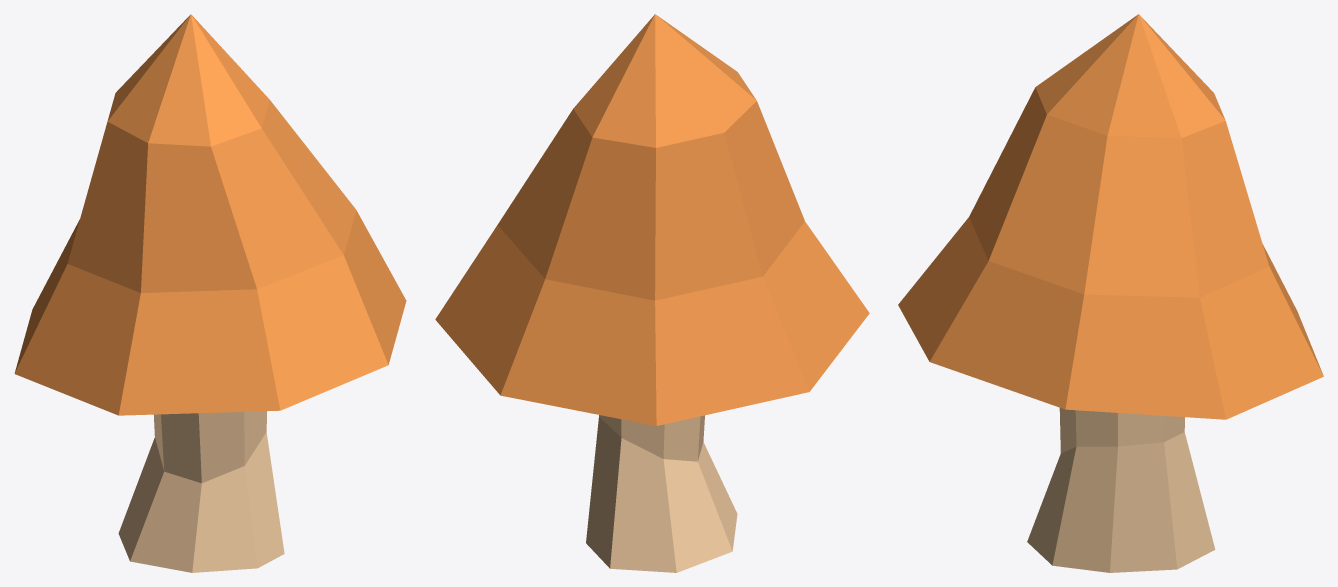
The model's file is OrangeMushroom.fbx.
The picture shows the model from 3 angles, left to right: view 1: azimuth 30°, elevation 25°; view 2: azimuth 150°, elevation 25°; view 3: azimuth 270°, elevation 25°; orthographic projection.
Visible parts, largest first — view 1: Mushroom2; view 2: Mushroom2; view 3: Mushroom2.
Boxes of the visible parts, left/top/right/bottom form: Mushroom2: left=14, top=14, right=406, bottom=572; Mushroom2: left=435, top=14, right=869, bottom=572; Mushroom2: left=898, top=14, right=1323, bottom=572.
Size of the model in its own units: 0.2522 by 0.3686 by 0.2673.
